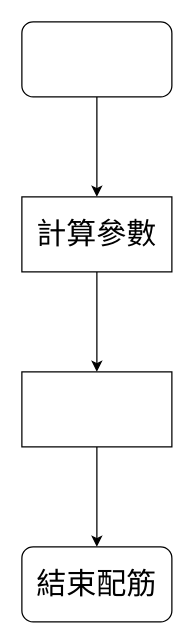
The diagram is 194 pixels wide and 644 high, and some of its shapes have lost their labels. The shapes that lost their labels are listed below. From the top down, each one's box as (x1, y1, x2, y2) in pixels, then its label:
(21, 21, 172, 97): 開始配筋
(21, 371, 172, 447): 反算S
